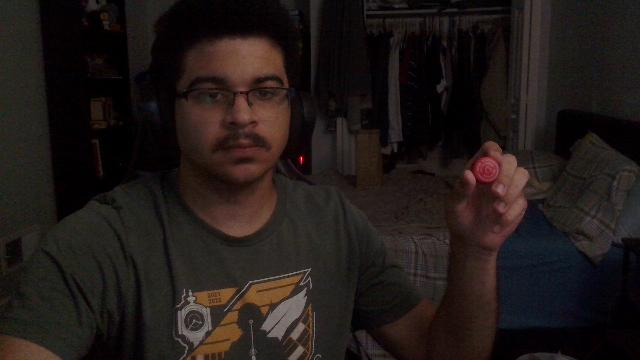cap: (472, 156, 500, 184)
